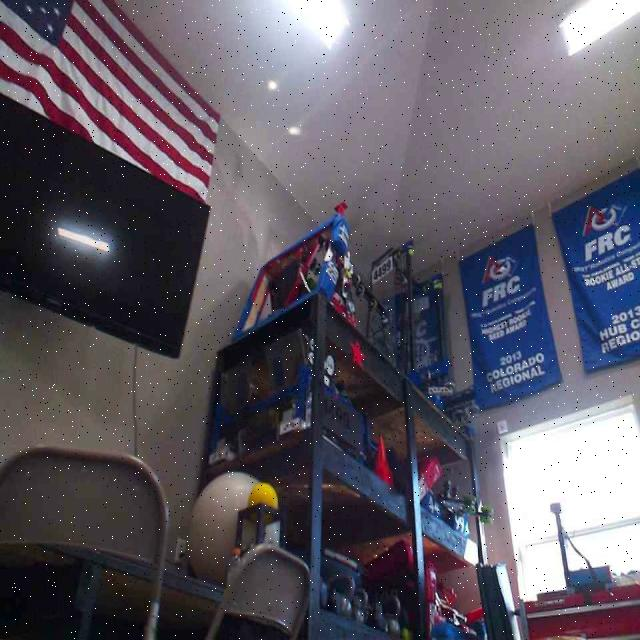star_red: (349, 337, 365, 368)
